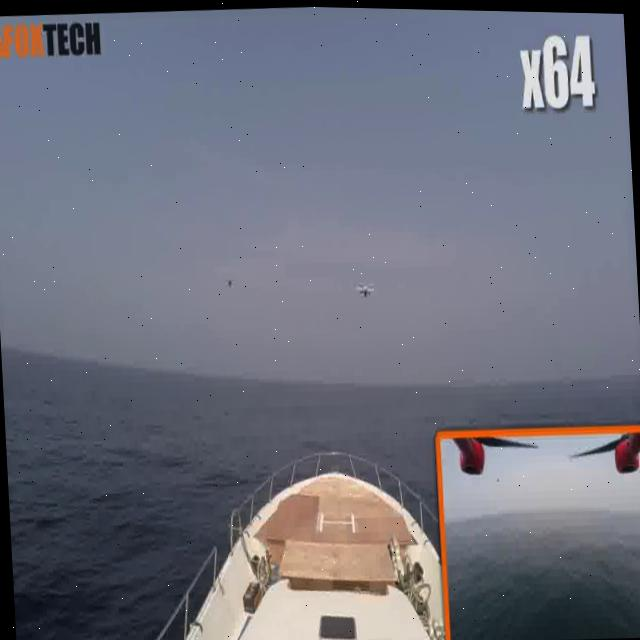drone: (315, 246, 395, 333)
